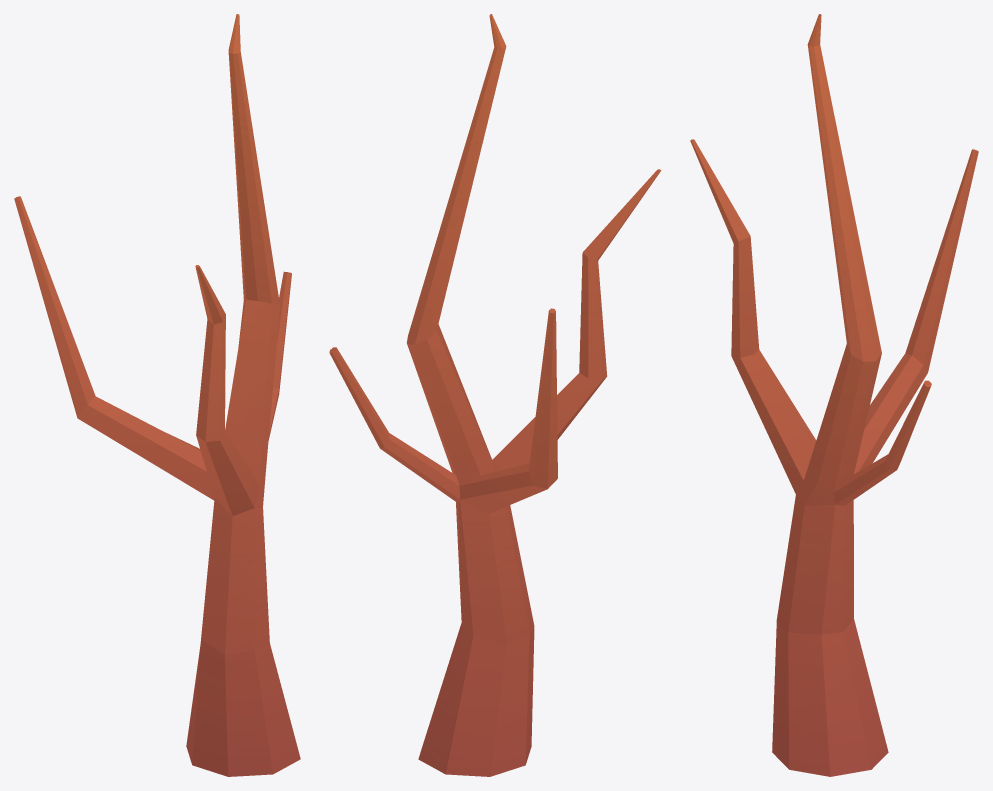
The model's file is Tree3.glb.
3 views of the same model, side by side, from view 1: azimuth 30°, elevation 25°; view 2: azimuth 150°, elevation 25°; view 3: azimuth 270°, elevation 25° (orthographic).
Parts seen in each view (by area): view 1: Tree3; view 2: Tree3; view 3: Tree3.
Boxes of the visible parts, x1,y1,x2,y2 form: Tree3: (14,14,300,776); Tree3: (329,14,661,776); Tree3: (690,14,978,776).
Bounding box in the file's own units: 1.41 × 3.98 × 1.42.
Materials: 1 (1 with a texture image).
